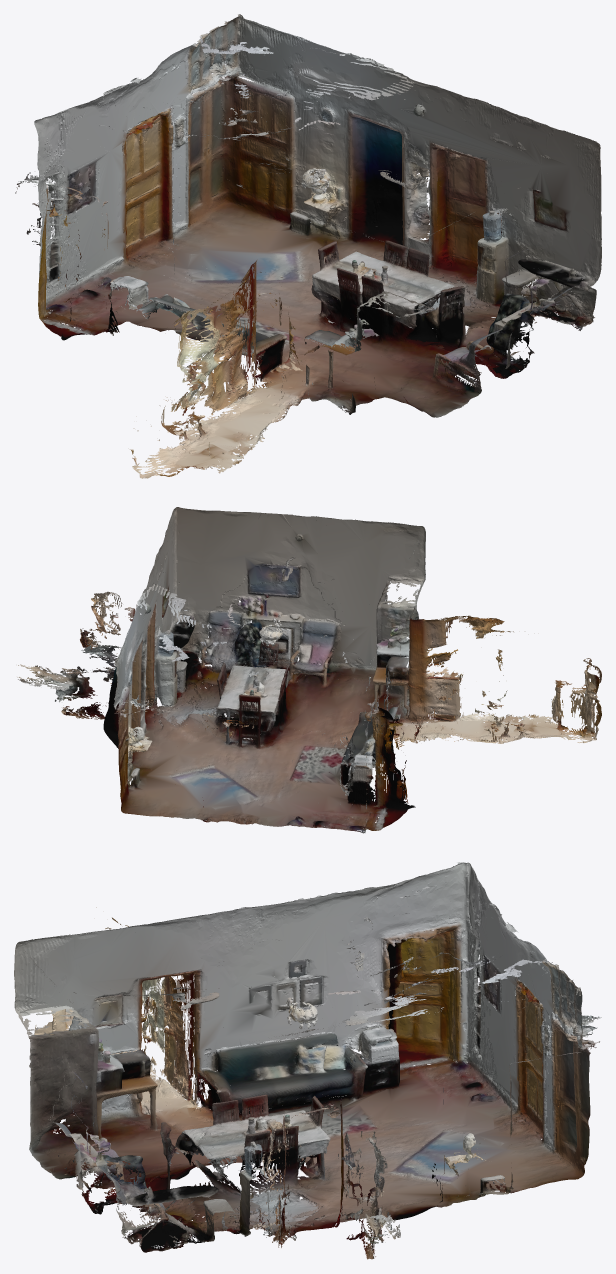
The picture shows the model from 3 angles, top to bottom: view 1: azimuth 30°, elevation 25°; view 2: azimuth 150°, elevation 25°; view 3: azimuth 270°, elevation 25°; orthographic projection. The views are drawn at different scales.
Visible parts, largest first — view 1: geometry_0; view 2: geometry_0; view 3: geometry_0.
Boxes of the visible parts, left/top/right/bottom form: geometry_0: left=15, top=14, right=601, bottom=478; geometry_0: left=17, top=507, right=601, bottom=833; geometry_0: left=14, top=862, right=601, bottom=1259.
Size of the model in its own units: 9.47 by 3.13 by 8.03.
